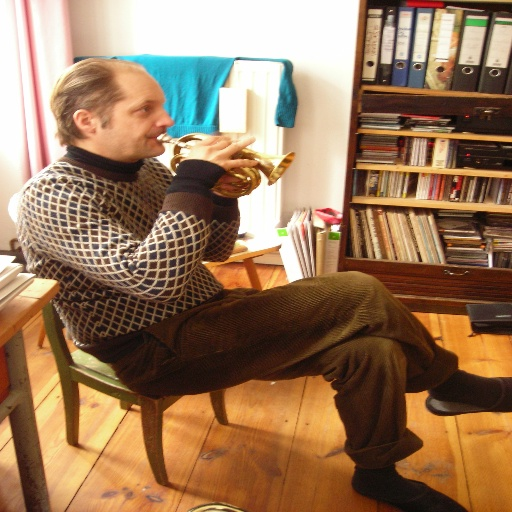hand: (147, 125, 278, 181), (217, 156, 251, 189)
